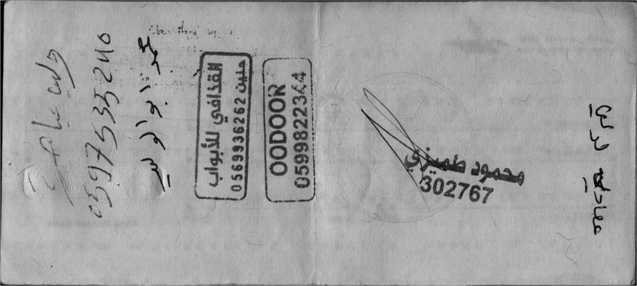stamp: (192, 50, 254, 202), (260, 55, 319, 205)
